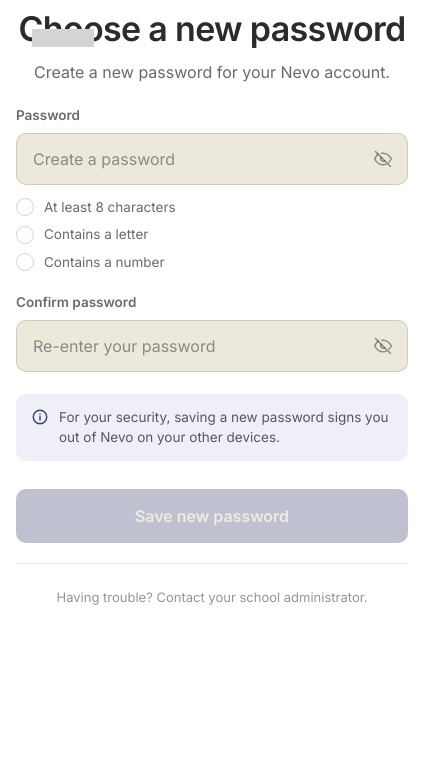
Test: a reset that did not land › stays on the form when the connection failed, and says so
The width and height of the screenshot is (425, 761).
Step 1. Type "lessons42" into the password field labelled "Password" → x=199, y=159, box [33,134,365,184]
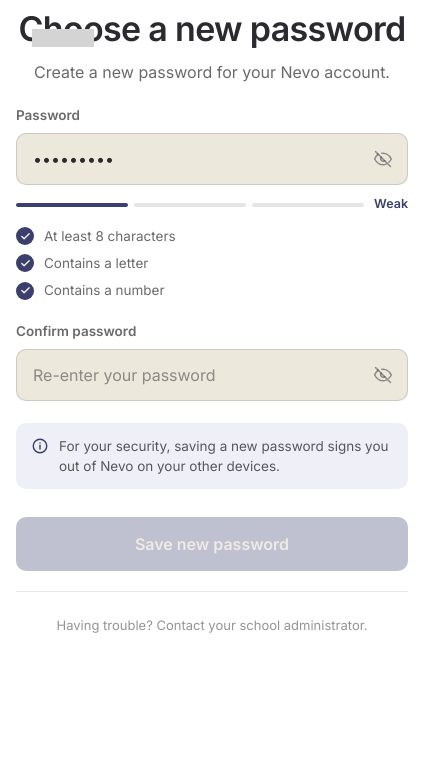
Step 2. Type "lessons42" into the password field labelled "Confirm password" → x=199, y=375, box [33,350,365,400]
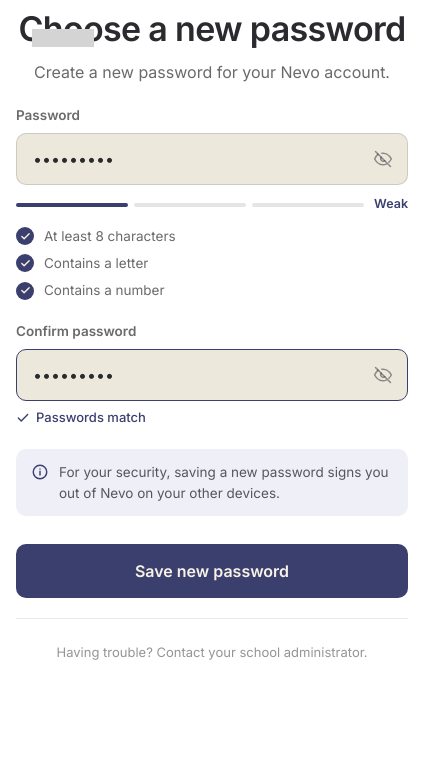
Step 3. Click the button "Save new password" → x=212, y=571, box [16,544,408,598]
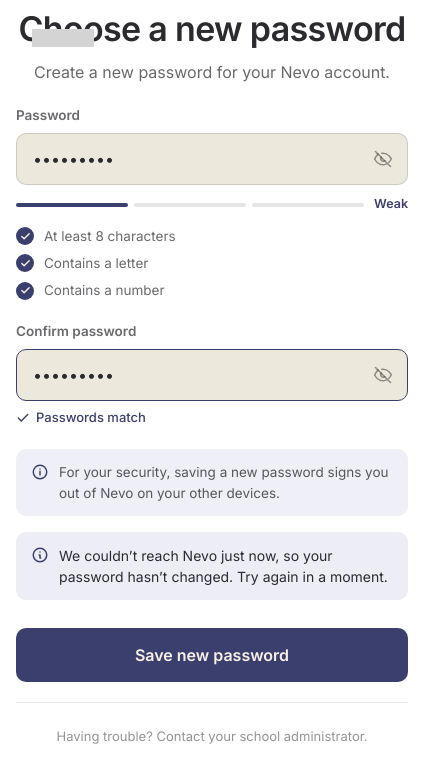
Expected: the text "couldn.t reach Nevo just now, so your password hasn.t changed" is shown, [59,547,388,585]
